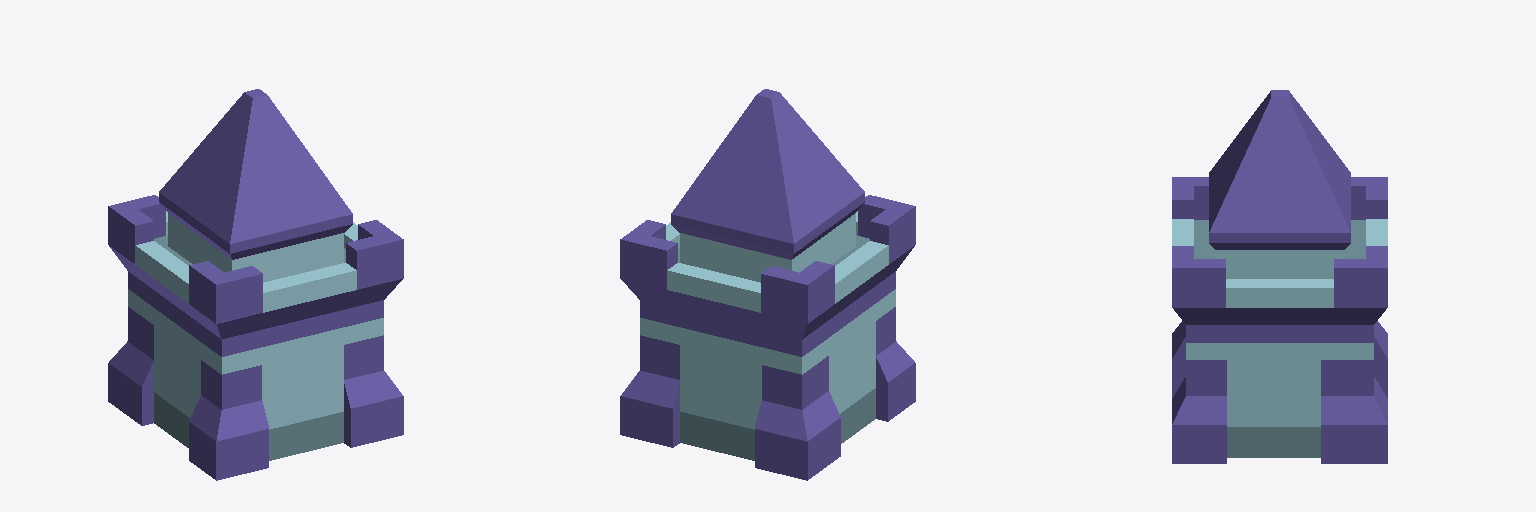
File: towerSquare_sampleB.obj
The picture shows the model from 3 angles: view 1: azimuth 30°, elevation 25°; view 2: azimuth 150°, elevation 25°; view 3: azimuth 270°, elevation 25°; orthographic projection.
Parts seen in each view (by area): view 1: towerSquare_sampleB; view 2: towerSquare_sampleB; view 3: towerSquare_sampleB.
Boxes of the visible parts, box(x1,y1,x2,y2) form: towerSquare_sampleB: box(108, 89, 403, 480); towerSquare_sampleB: box(620, 89, 915, 480); towerSquare_sampleB: box(1172, 90, 1387, 463).
Bounding box in the file's own units: 1 × 1.66 × 1.